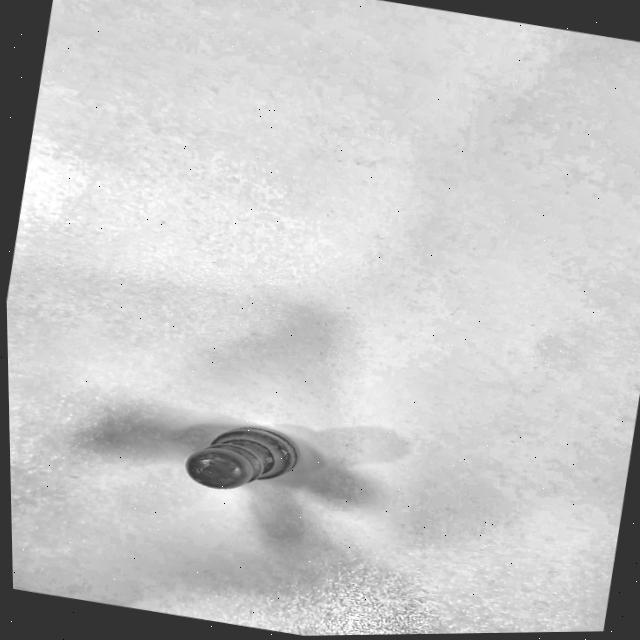black-pawn: (171, 410, 314, 510)
